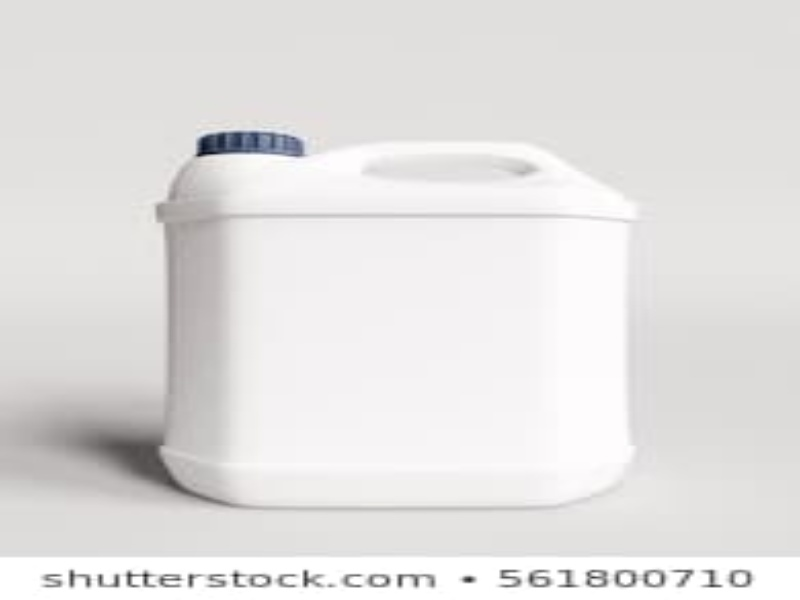bottle-cap: (186, 128, 310, 157)
detergent-bottle: (150, 128, 642, 511)
